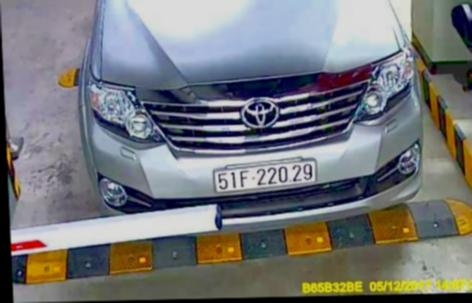License_Plate: (211, 161, 318, 192)
